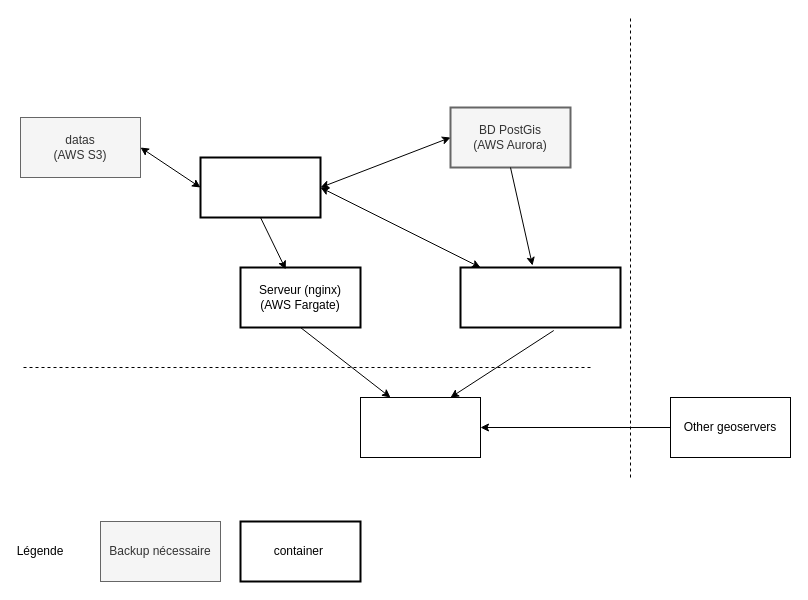
Image size: 808x600. Some labels were removed from this diagram. The shapes that lost their labels are listed below. From the top down, each one's box as (x1, y1, x2, y2) in pixels, then its label:
(199, 156, 321, 218): Web site (AWS Fargate)
(459, 266, 621, 328): Qgisserver (serveur cartographique) (AWS Fargate)
(360, 396, 480, 458): Client
